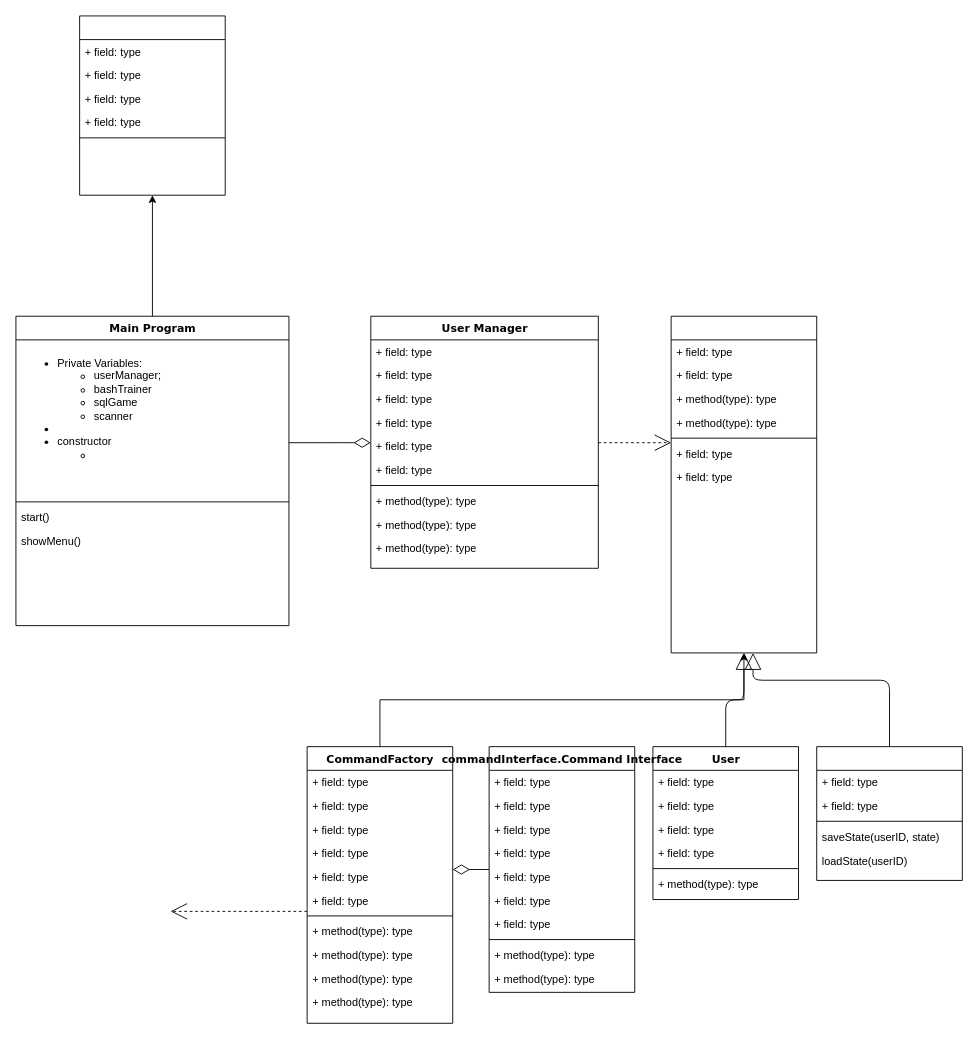
The diagram is 978 pixels wide and 1039 high, and some of its shapes have lost their labels. Here are the shapes that lost their labels. From the top down, the box of each, then its label:
(79, 15, 225, 195): SQLGame
(670, 315, 817, 653): BashTrainer
(816, 746, 962, 880): FileSystemManager
